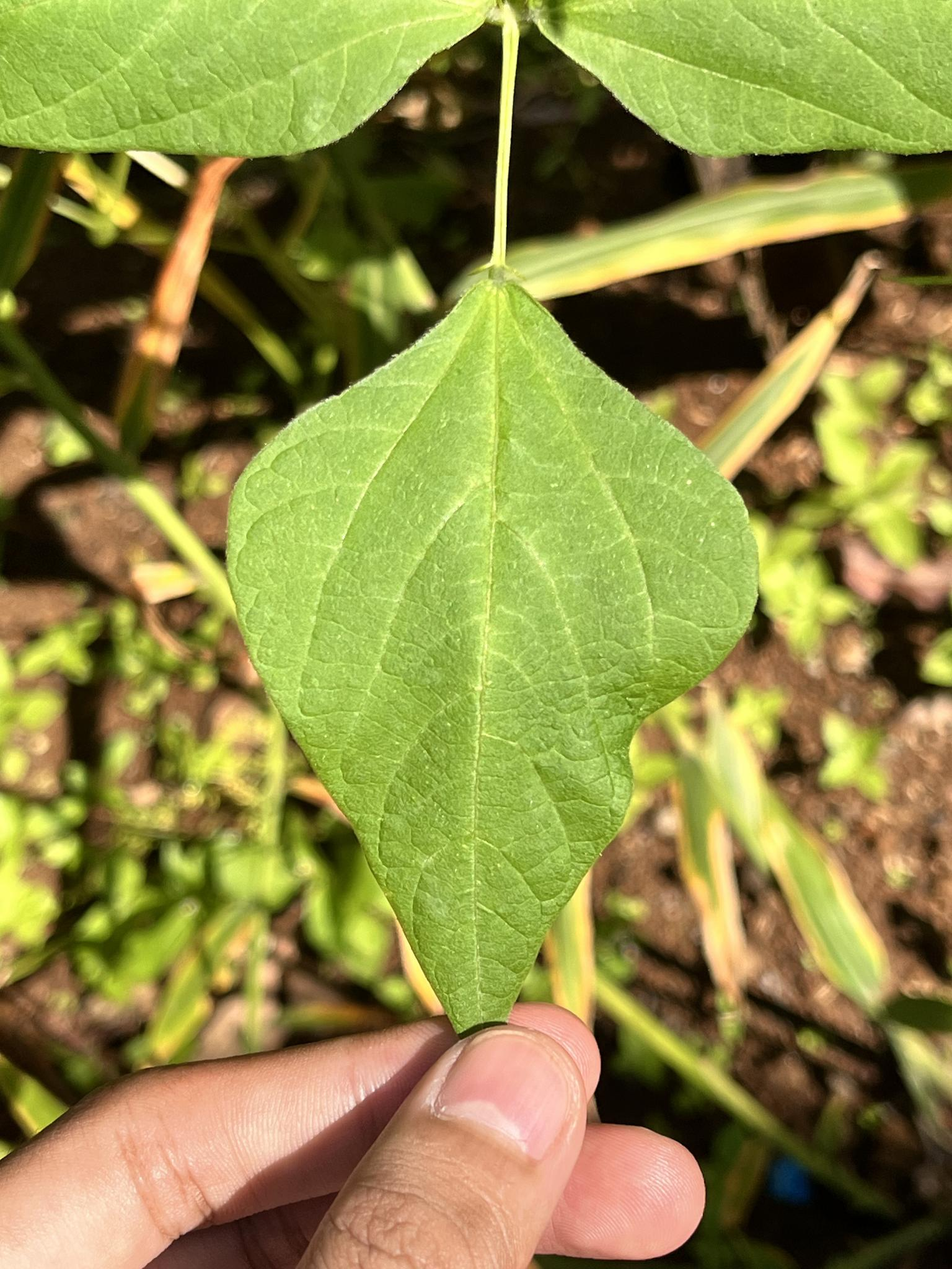sehat: (221, 263, 763, 1047)
